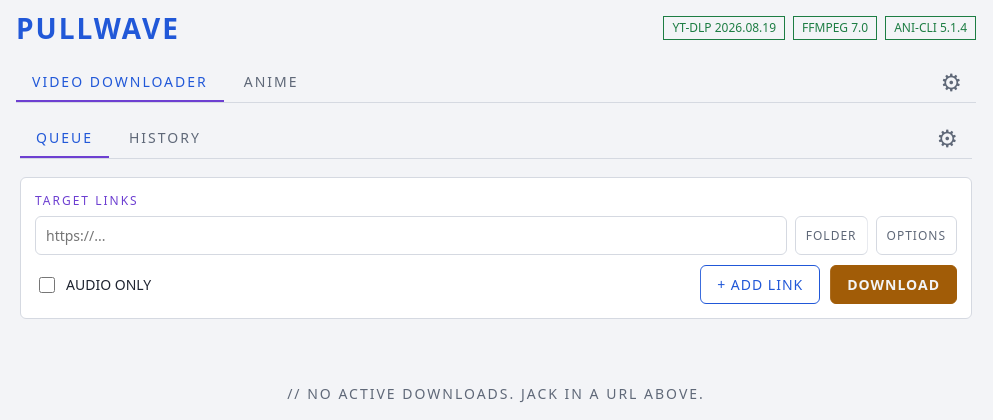
App anime section › shows the anime section when its tab is chosen
Click the button "ANIME" at (271, 82), box [228,63,315,102]
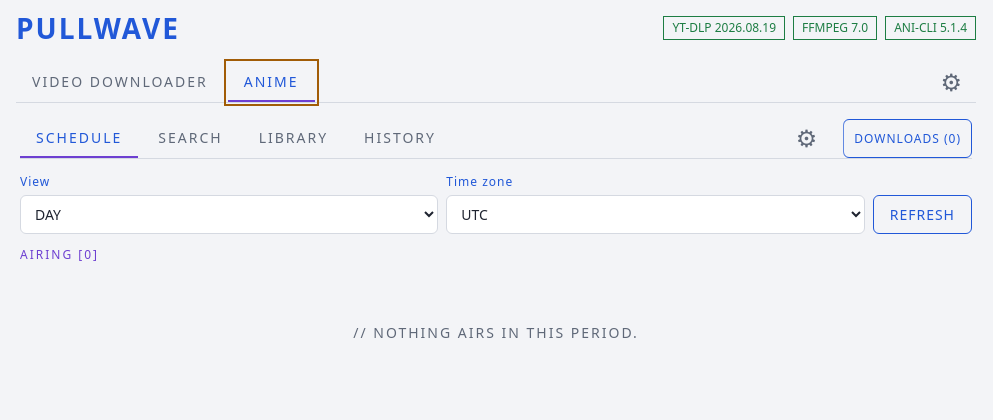
Check: the element named "Anime" is shown
Check: the element named "Anime schedule" is shown, box [20,173,972,389]
